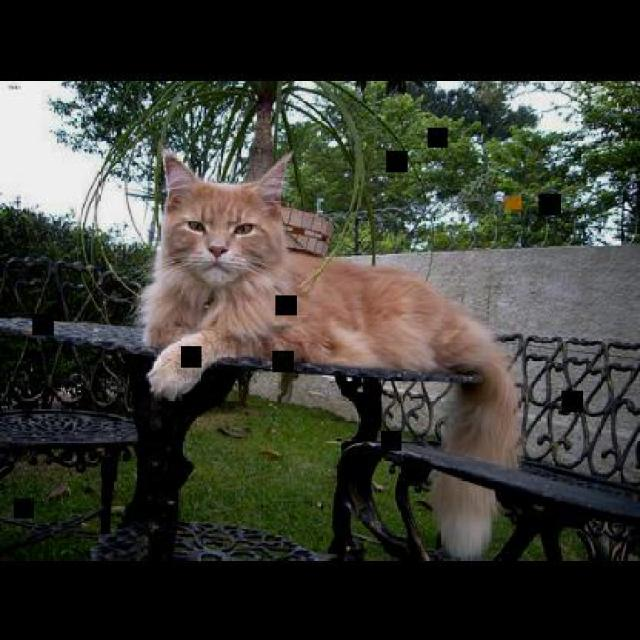unauthorized: (134, 146, 521, 559)
